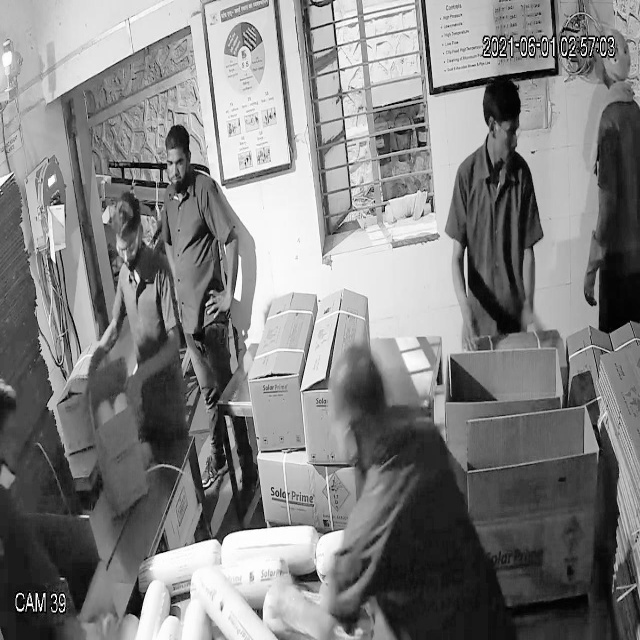Gafas: (105, 232, 152, 264)
